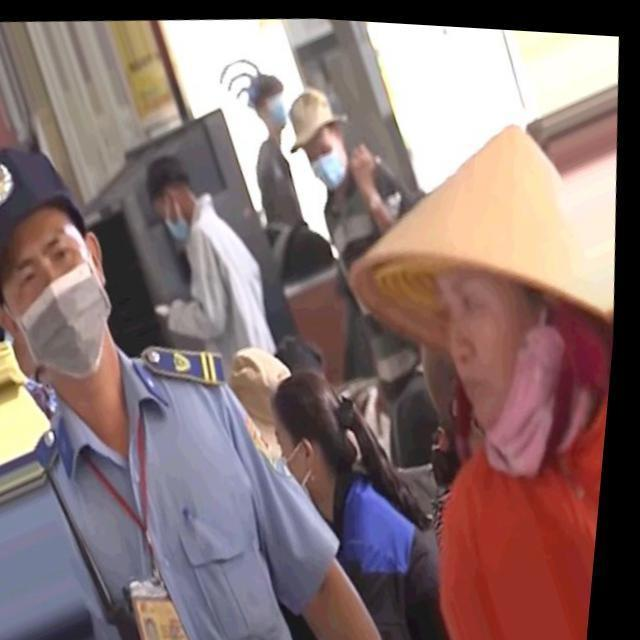hairnet: (438, 270, 564, 468)
